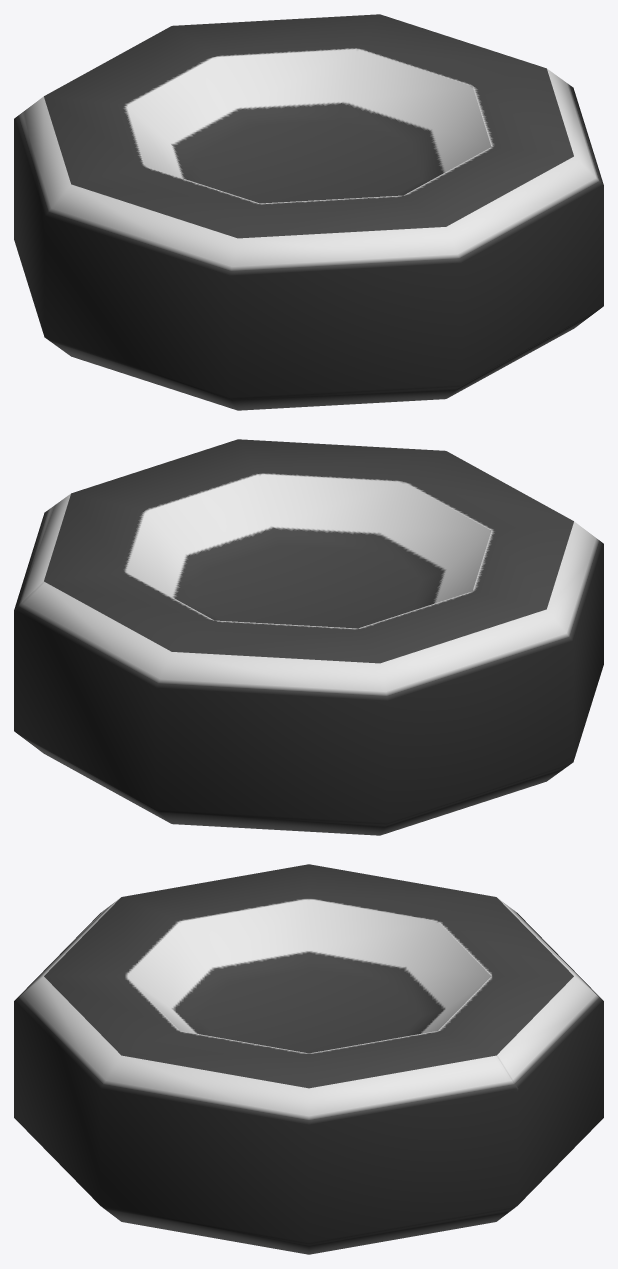
File: WeapPuckV0.1.fbx
The picture shows the model from 3 angles, top to bottom: view 1: azimuth 30°, elevation 25°; view 2: azimuth 150°, elevation 25°; view 3: azimuth 270°, elevation 25°; orthographic projection. The views are drawn at different scales.
Visible parts, largest first — view 1: PuckProjectile; view 2: PuckProjectile; view 3: PuckProjectile.
Part boxes in pixels (x1,y1,x2,y2): PuckProjectile: (14, 14, 603, 410); PuckProjectile: (14, 439, 603, 835); PuckProjectile: (14, 864, 603, 1254).
Size of the model in its own units: 42.48 by 13.22 by 42.48.
Materials: 1 (1 with a texture image).
